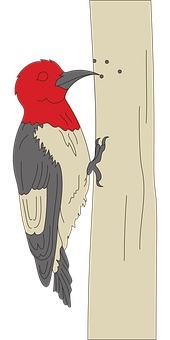bird: (3, 58, 111, 315)
